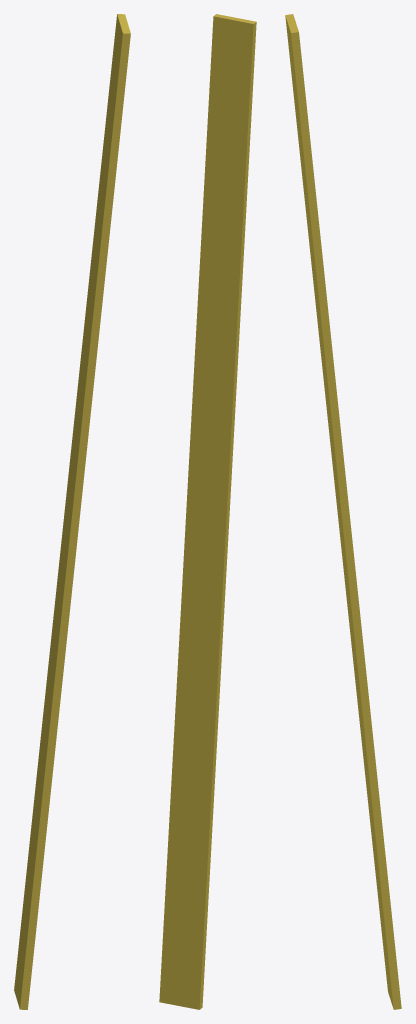
The model's file is post-box-1-volume-candidate.glb.
The picture shows the model from 3 angles, left to right: view 1: azimuth 90°, elevation 25°; view 2: azimuth 150°, elevation 25°; view 3: azimuth 270°, elevation 25°; orthographic projection. The views are drawn at different scales.
Parts seen in each view (by area): view 1: post-box-1-closed-extrusion-hypothesis; view 2: post-box-1-closed-extrusion-hypothesis; view 3: post-box-1-closed-extrusion-hypothesis.
Boxes of the visible parts, left/top/right/bottom form: post-box-1-closed-extrusion-hypothesis: left=14, top=14, right=130, bottom=1009; post-box-1-closed-extrusion-hypothesis: left=159, top=14, right=256, bottom=1009; post-box-1-closed-extrusion-hypothesis: left=285, top=14, right=401, bottom=1009.
Size of the model in its own units: 0.1228 by 2.64 by 0.2852.
